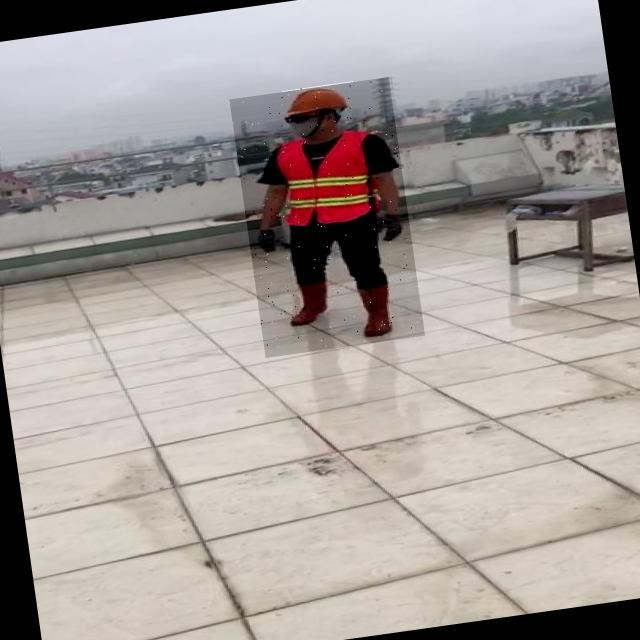Gloves: (253, 225, 287, 259), (378, 213, 406, 242)
Helmet: (282, 82, 357, 120)
Human: (230, 77, 427, 358)
Safety Boot: (357, 280, 403, 339), (290, 280, 334, 325)
Safety Vest: (274, 129, 381, 229)
